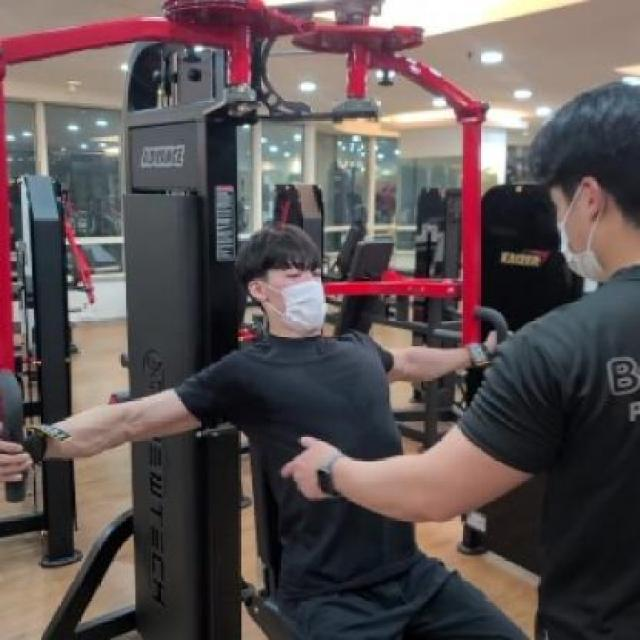chest fly machine: (0, 4, 512, 640)
